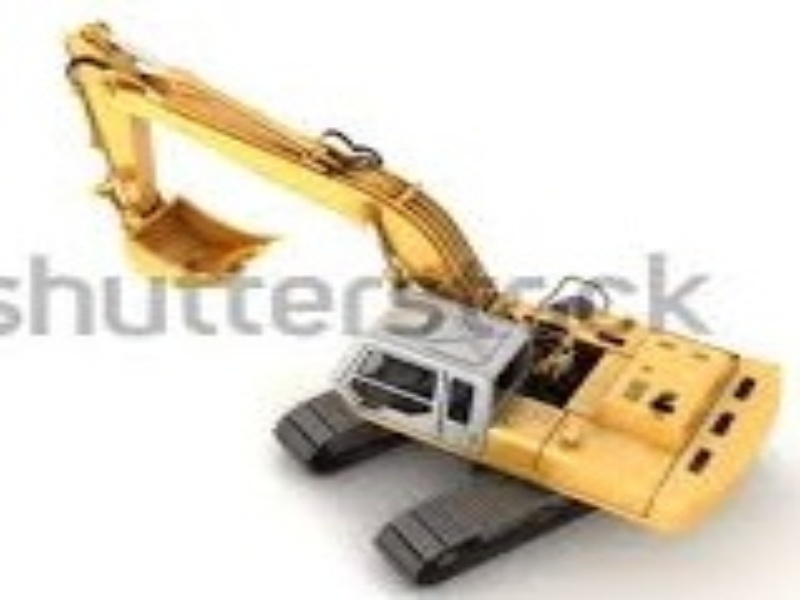wajueji: (54, 23, 784, 583)
